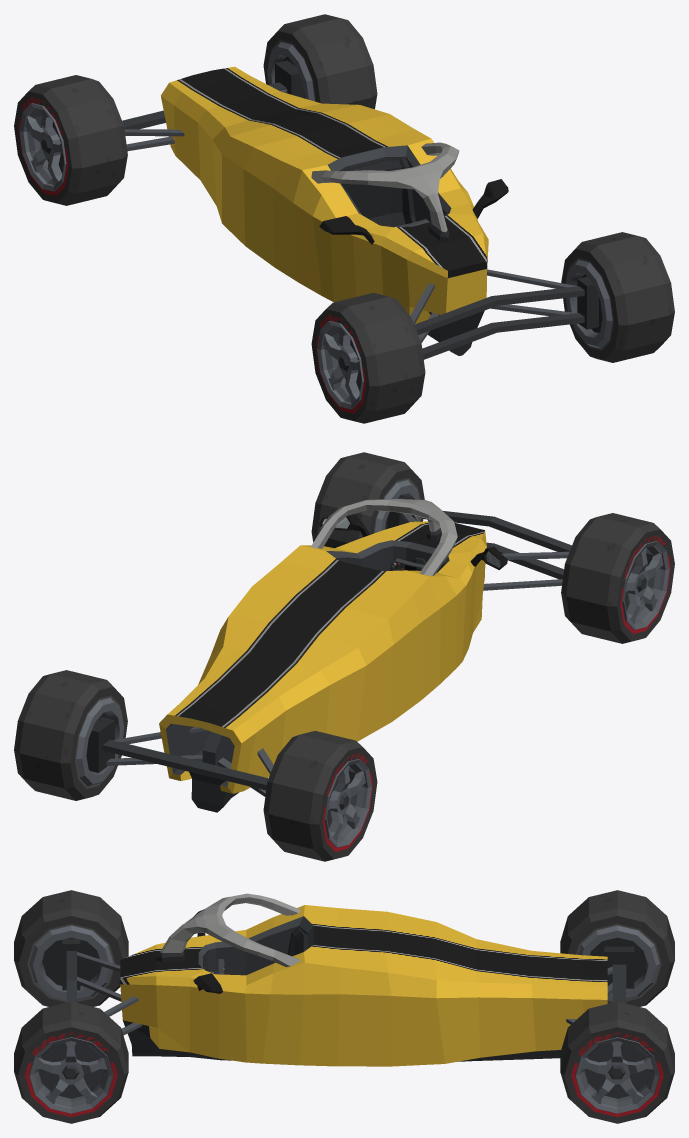
File: SM_Veh_OpenWheeler_01.fbx
3 renders of one model, top to bottom at view 1: azimuth 30°, elevation 25°; view 2: azimuth 150°, elevation 25°; view 3: azimuth 270°, elevation 25°, orthographic. The views are drawn at different scales.
Parts seen in each view (by area): view 1: SM_Veh_OpenWheeler_01, SM_Veh_OpenWheeler_01_Wheel_RR, SM_Veh_OpenWheeler_01_Wheel_FR, SM_Veh_OpenWheeler_01_Wheel_FL, SM_Veh_OpenWheeler_01_Wheel_RL; view 2: SM_Veh_OpenWheeler_01, SM_Veh_OpenWheeler_01_Wheel_FR, SM_Veh_OpenWheeler_01_Wheel_RR, SM_Veh_OpenWheeler_01_Wheel_RL, SM_Veh_OpenWheeler_01_Wheel_FL; view 3: SM_Veh_OpenWheeler_01, SM_Veh_OpenWheeler_01_Wheel_FL, SM_Veh_OpenWheeler_01_Wheel_RL, SM_Veh_OpenWheeler_01_Wheel_FR, SM_Veh_OpenWheeler_01_Wheel_RR.
Part boxes in pixels (x1=…): SM_Veh_OpenWheeler_01: x1=122, y1=60, x2=598, y2=359; SM_Veh_OpenWheeler_01_Wheel_RR: x1=14, y1=75, x2=127, y2=205; SM_Veh_OpenWheeler_01_Wheel_FR: x1=311, y1=292, x2=425, y2=423; SM_Veh_OpenWheeler_01_Wheel_FL: x1=561, y1=232, x2=674, y2=362; SM_Veh_OpenWheeler_01_Wheel_RL: x1=263, y1=14, x2=377, y2=109; SM_Veh_OpenWheeler_01: x1=86, y1=497, x2=571, y2=812; SM_Veh_OpenWheeler_01_Wheel_FR: x1=561, y1=513, x2=674, y2=643; SM_Veh_OpenWheeler_01_Wheel_RR: x1=263, y1=730, x2=377, y2=861; SM_Veh_OpenWheeler_01_Wheel_RL: x1=14, y1=670, x2=127, y2=800; SM_Veh_OpenWheeler_01_Wheel_FL: x1=311, y1=452, x2=424, y2=548; SM_Veh_OpenWheeler_01: x1=62, y1=893, x2=634, y2=1066; SM_Veh_OpenWheeler_01_Wheel_FL: x1=14, y1=1001, x2=128, y2=1123; SM_Veh_OpenWheeler_01_Wheel_RL: x1=560, y1=1001, x2=674, y2=1123; SM_Veh_OpenWheeler_01_Wheel_FR: x1=14, y1=890, x2=128, y2=1006; SM_Veh_OpenWheeler_01_Wheel_RR: x1=560, y1=890, x2=674, y2=1006.
Size of the model in its own units: 254 by 125 by 516.
